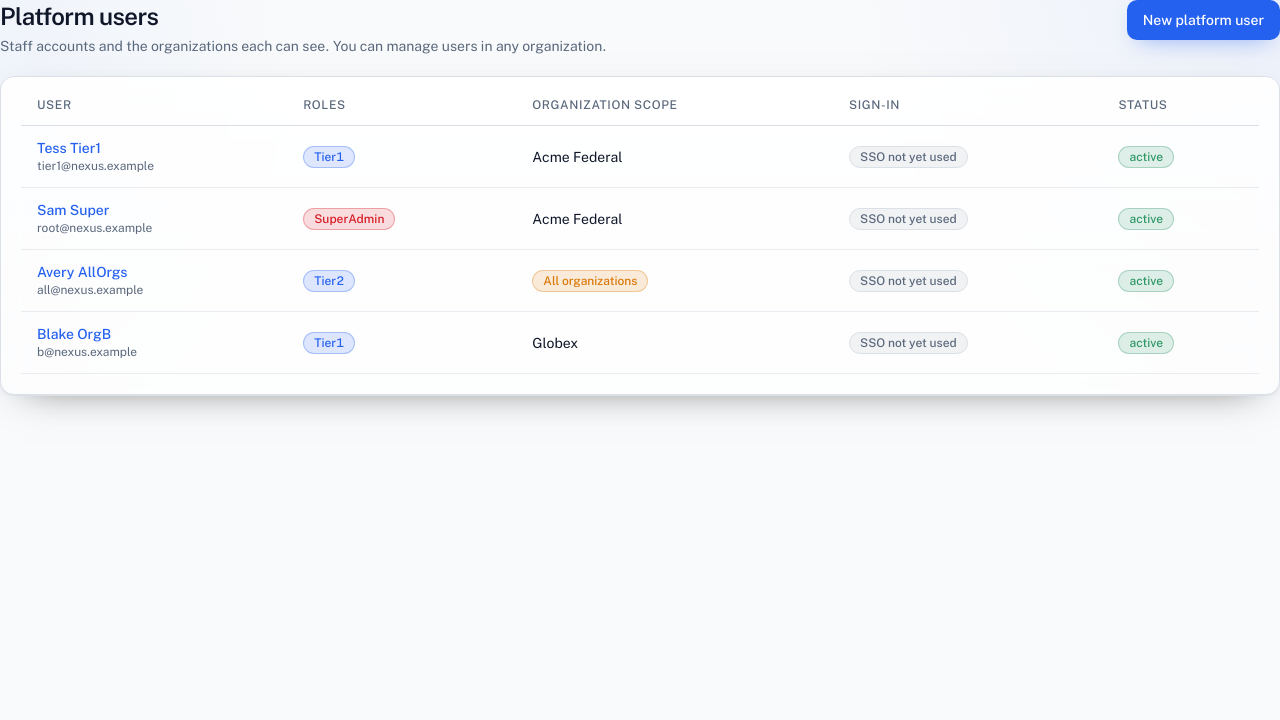
Test: TeamPage for a delegated admin › explains up front that Avery AllOrgs is read-only, rather than failing on save
Step 1. Click the text "Avery AllOrgs" → (82, 272), box [37, 264, 127, 280]
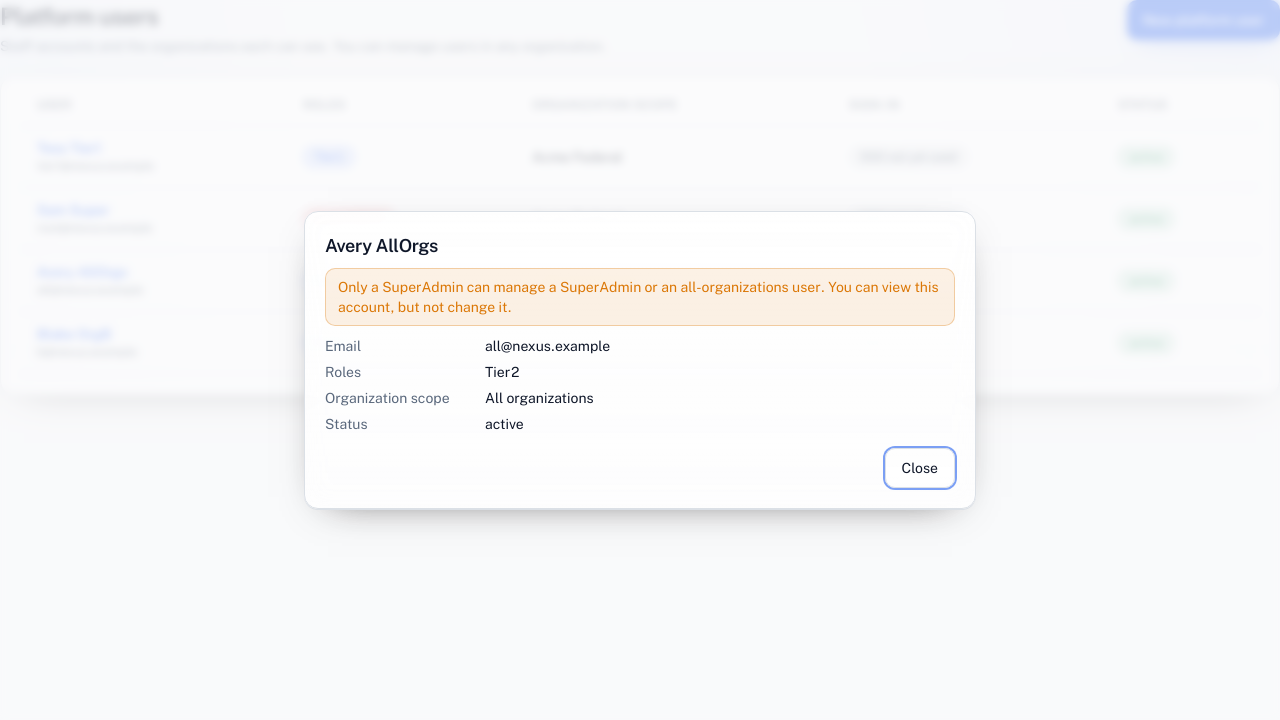
Check: the text "Only a SuperAdmin can manage" is shown, box [338, 279, 938, 315]
